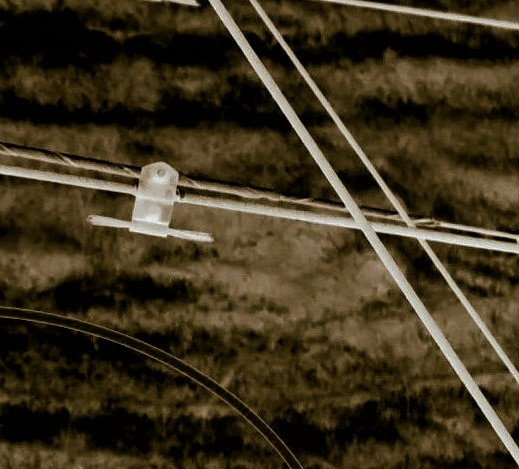Damage of shockproof hammer: (80, 153, 218, 254)
